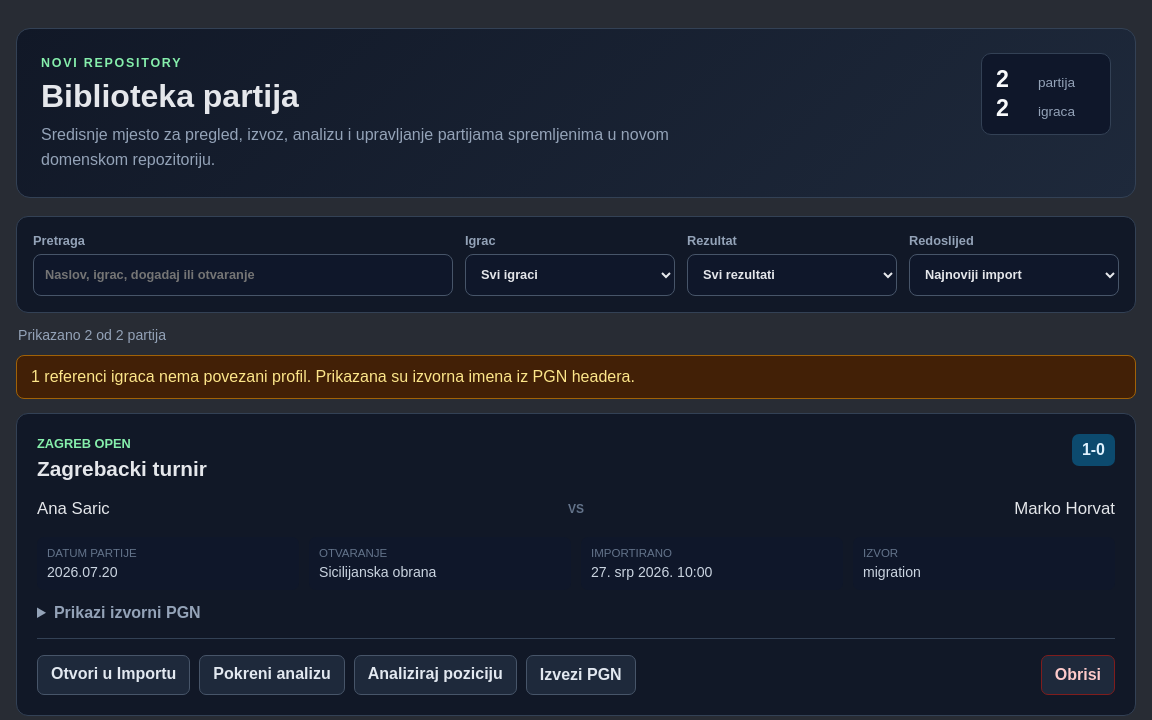
domenska biblioteka partija iz UI-ja › pretraga i ponistavanje filtra mijenjaju samo vidljivi skup
The width and height of the screenshot is (1152, 720).
Expected: the text "Prikazano 2 od 2 partija" is shown, [18,327,166,343]
In the search field labelled "Pretraga": (243, 275) [33,254,453,296], type "sicilijanska"
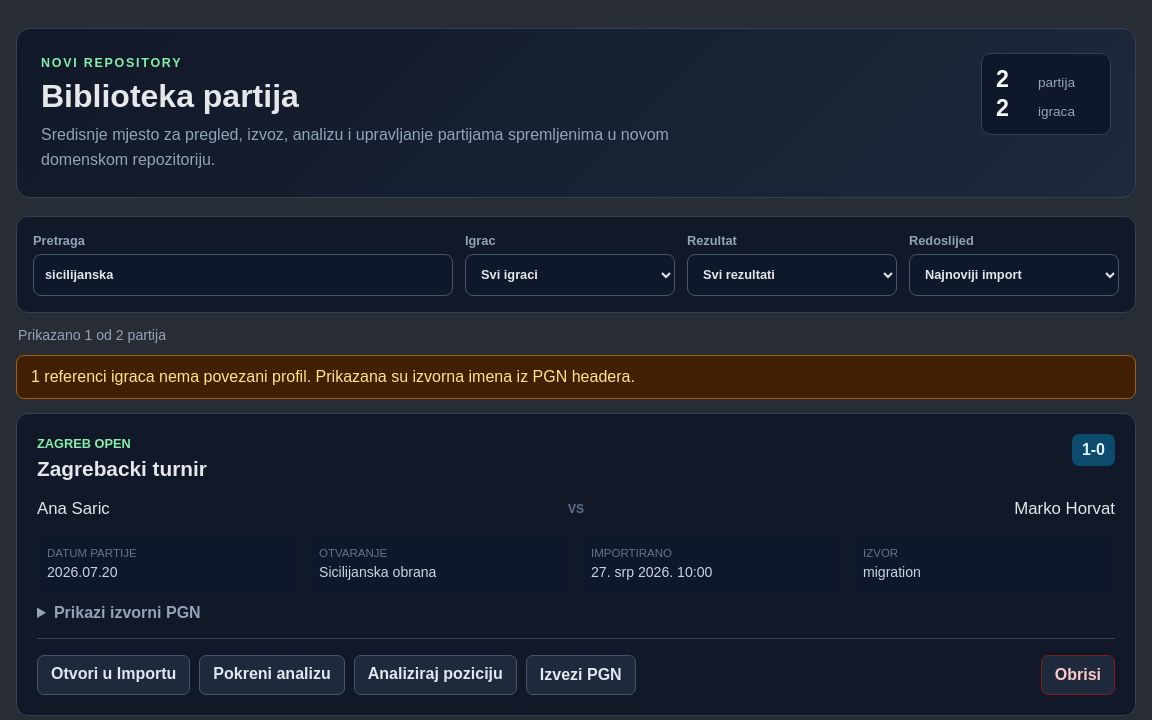
Result: the text "Prikazano 1 od 2 partija" is shown at [18,327,166,343]
Replace the text in the search field labelled "Pretraga" with "nepostojeca partija": (243, 275) [33,254,453,296]
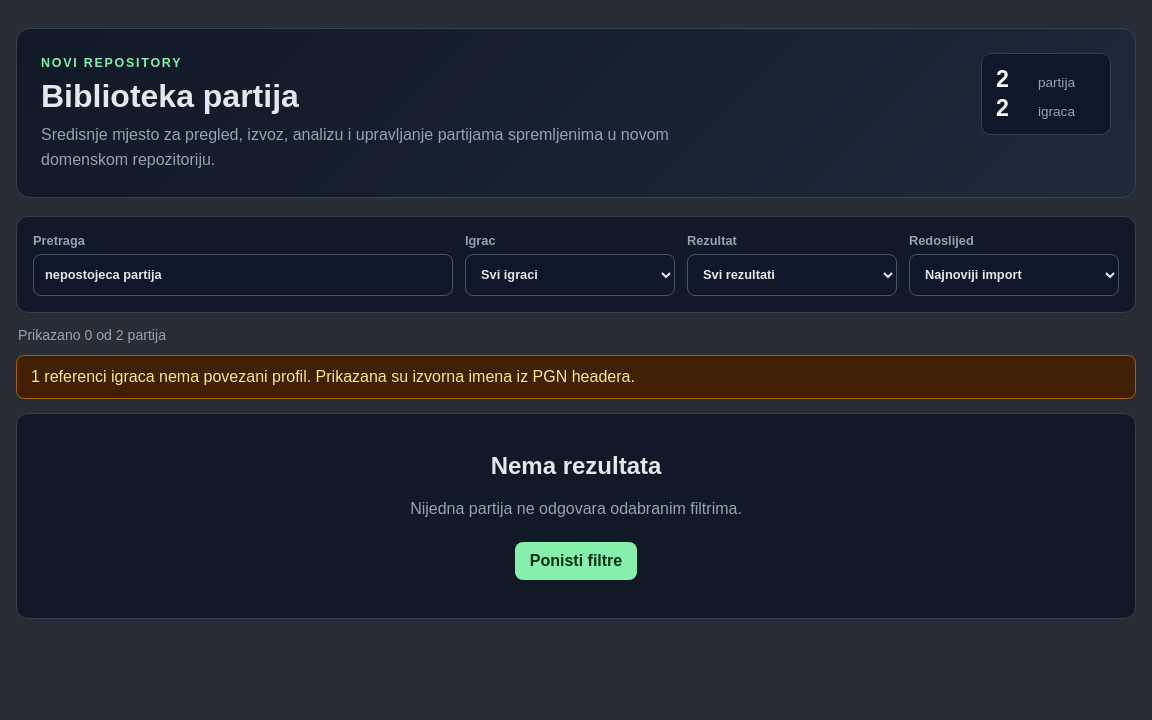
Result: the heading "Nema rezultata" is shown at [491,452,661,479]
Click the button "Ponisti filtre": (576, 560) [515,542,637,580]
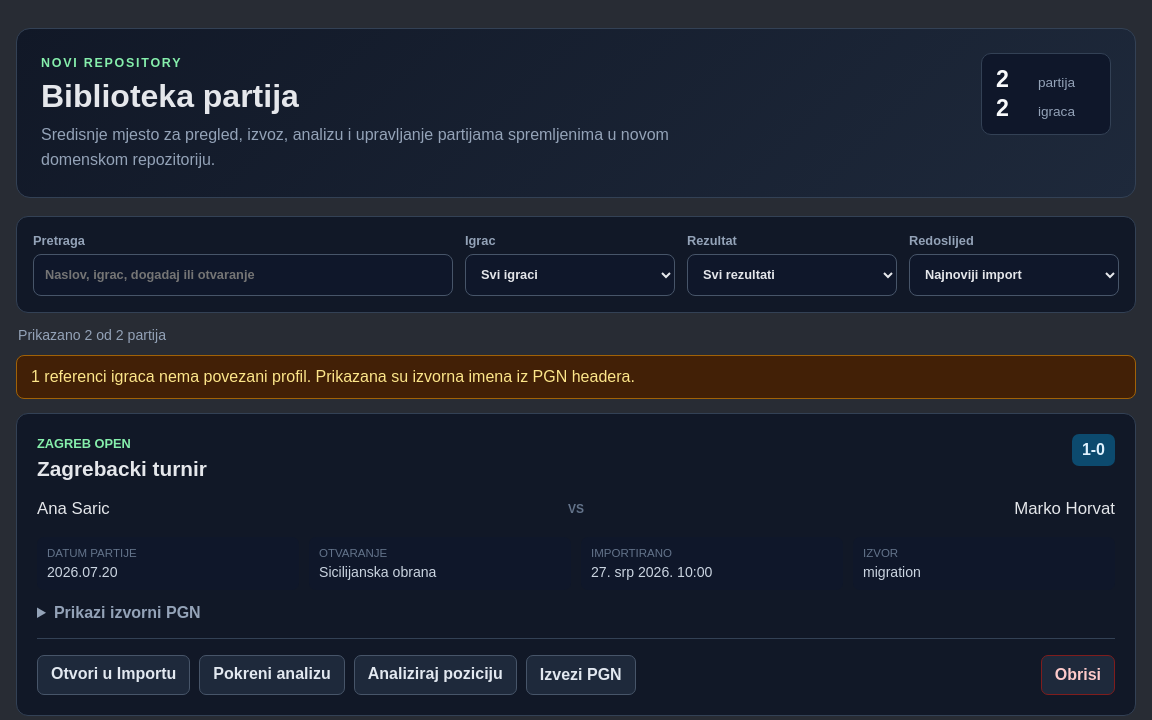
Result: the text "Prikazano 2 od 2 partija" is shown at [18,327,166,343]
